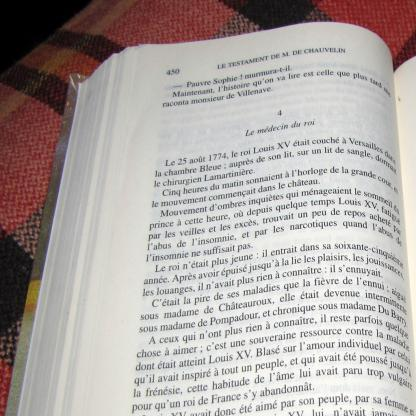book: (4, 19, 415, 415)
